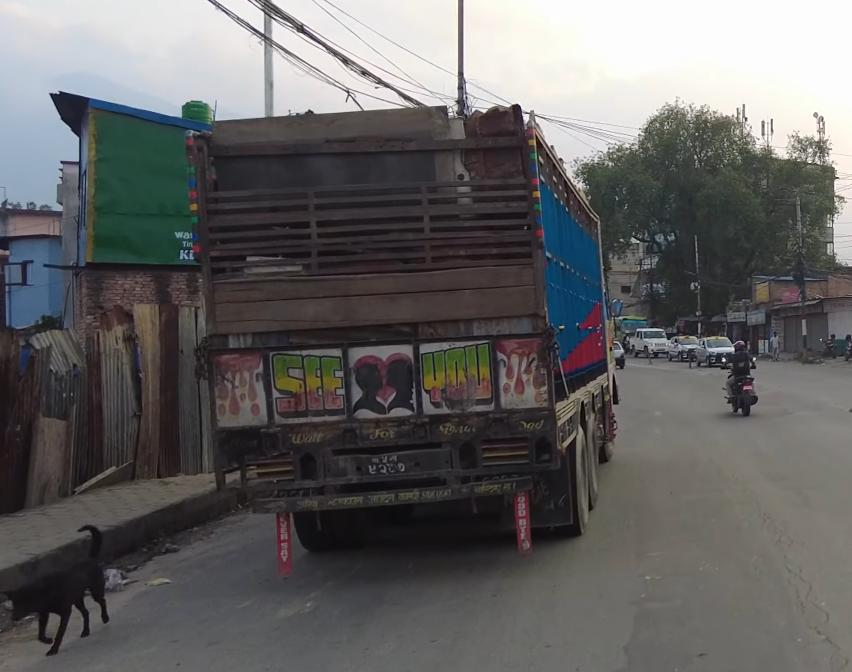bike: (719, 360, 758, 416)
taxi: (696, 333, 738, 366), (665, 330, 703, 363)
truck: (188, 101, 621, 553)
